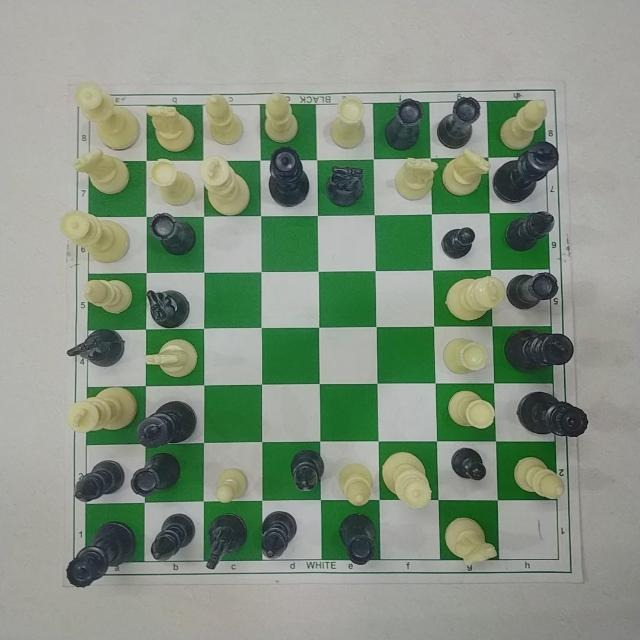black-bishop: (148, 512, 196, 564), (72, 458, 126, 504), (503, 210, 557, 254), (259, 510, 299, 562), (288, 448, 325, 494)
black-king: (492, 139, 562, 204), (502, 326, 576, 373), (133, 399, 199, 449)
black-knight: (204, 512, 250, 573), (64, 327, 126, 369), (143, 288, 191, 330), (324, 163, 365, 208)
black-pawn: (449, 446, 488, 482), (439, 225, 477, 260)
black-queen: (64, 519, 138, 590), (514, 389, 589, 439), (266, 145, 310, 209)
black-rook: (434, 95, 482, 149), (503, 269, 561, 311), (383, 96, 425, 153)
white-bishop: (498, 97, 550, 153), (510, 454, 567, 501), (202, 92, 247, 147), (81, 277, 135, 317), (261, 91, 300, 145), (336, 460, 375, 508)
white-king: (64, 384, 140, 435), (197, 153, 253, 217), (444, 272, 508, 322)
white-knight: (70, 147, 132, 197), (442, 515, 500, 567), (144, 103, 196, 155), (440, 146, 491, 198), (143, 337, 200, 380), (392, 155, 440, 203)
white-pawn: (213, 466, 249, 505)
white-queen: (72, 79, 142, 153), (57, 206, 132, 265), (379, 449, 435, 511)
white-rook: (127, 451, 182, 499), (147, 156, 197, 208), (335, 510, 378, 567), (147, 209, 198, 257), (328, 96, 368, 152), (445, 388, 497, 430), (440, 336, 490, 376)
